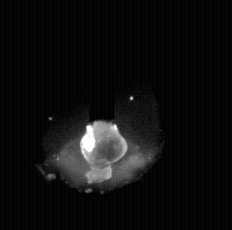arame: (90, 0, 115, 125)
poca: (46, 0, 162, 230)
